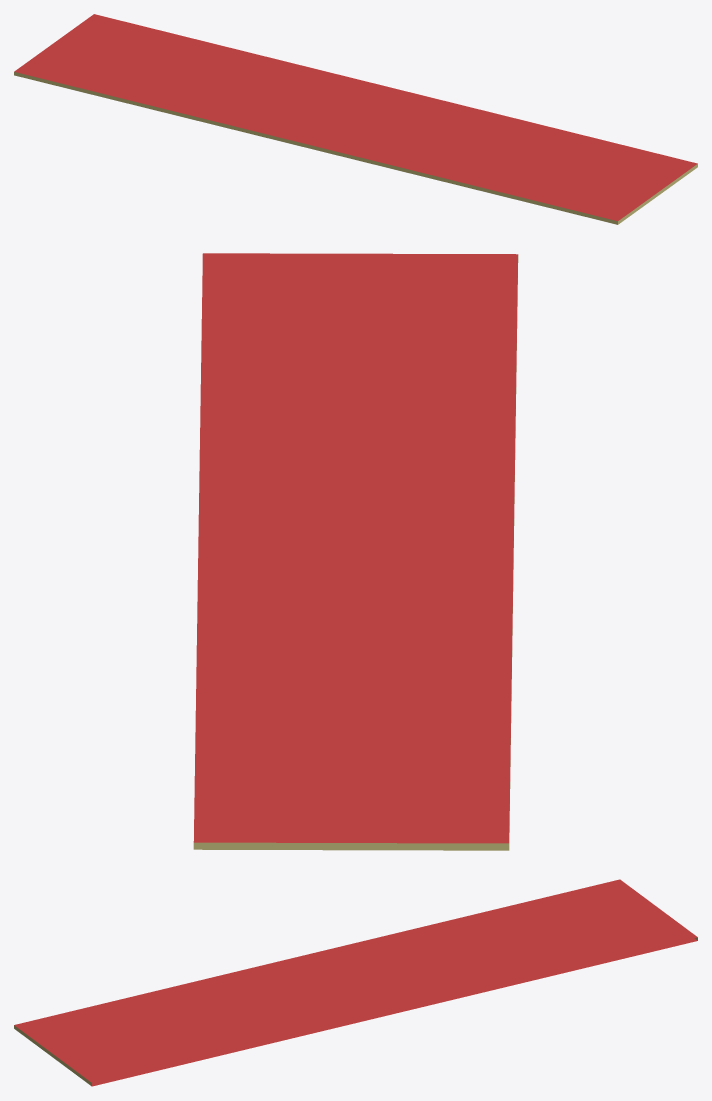
The picture shows the model from 3 angles, top to bottom: view 1: azimuth 30°, elevation 25°; view 2: azimuth 150°, elevation 25°; view 3: azimuth 270°, elevation 25°; orthographic projection. The views are drawn at different scales.
Bounding box in the file's own units: 12.12 × 17.21 × 0.1.
